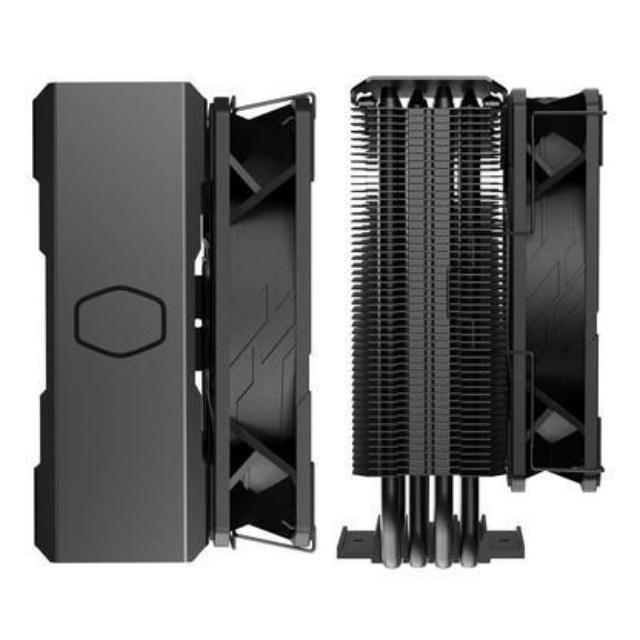CPU_Fan: (30, 82, 318, 560), (352, 76, 604, 566)
